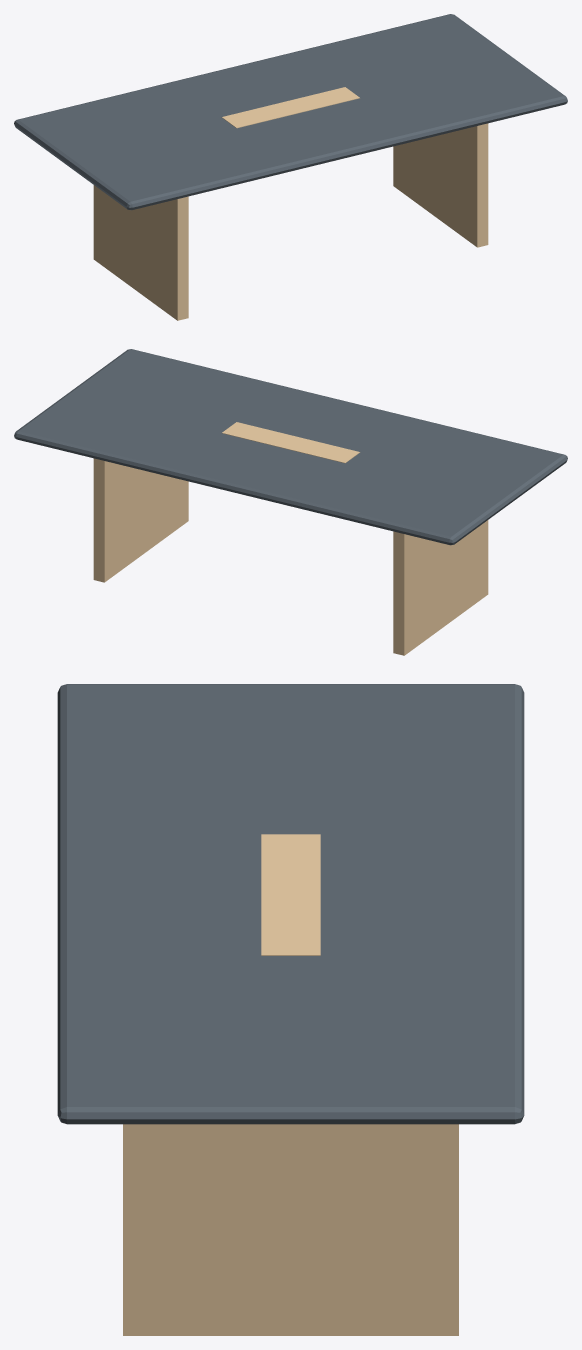
The model's file is ai.test-table.glb.
3 renders of one model, top to bottom at view 1: azimuth 30°, elevation 25°; view 2: azimuth 150°, elevation 25°; view 3: azimuth 270°, elevation 25°, orthographic. The views are drawn at different scales.
Visible parts, largest first — view 1: Hero_Asset; view 2: Hero_Asset; view 3: Hero_Asset.
Boxes of the visible parts, x1=… form: Hero_Asset: x1=14, y1=14, x2=567, y2=320; Hero_Asset: x1=14, y1=349, x2=567, y2=655; Hero_Asset: x1=57, y1=684, x2=524, y2=1335.
Bounding box in the file's own units: 2.39 × 0.75 × 1.1.
